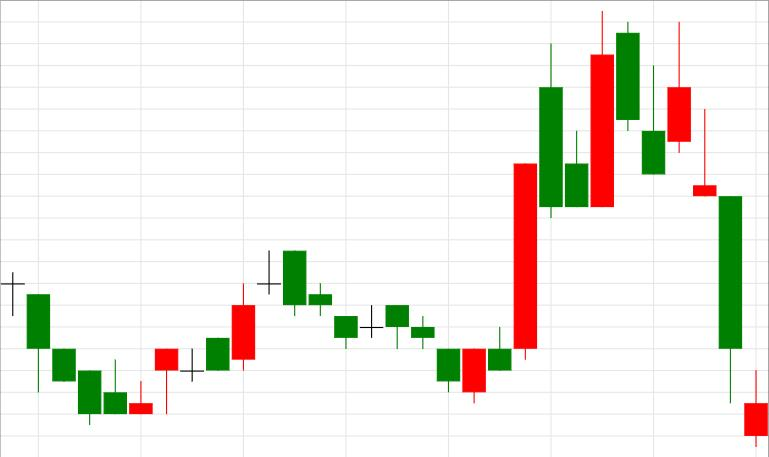bullish_engulfing_rise: (258, 251, 486, 404)
